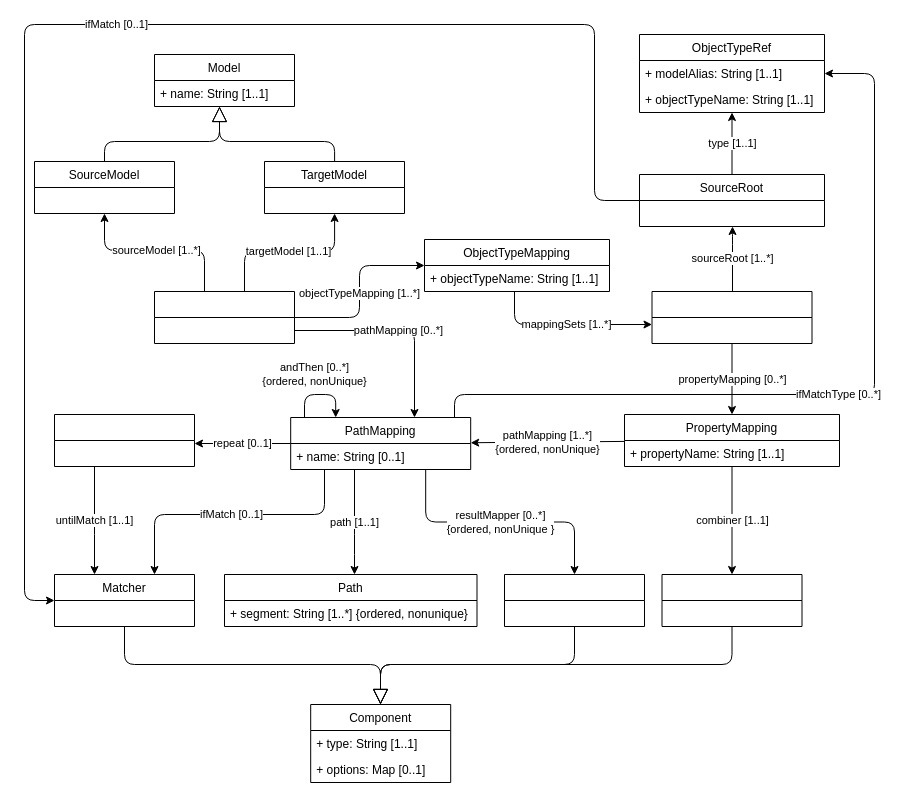
This 900x803 diagram has some shape labels left out. The shapes that lost their labels are listed below. From the top down, each one's centre as x and y in pixels, then its label:
At (224,317): "ModelMapping".
At (731,317): "ObjectTypeMappingSet".
At (124,440): "PathRepeat".
At (574,600): "ResultMapper".
At (731,600): "ResultCombiner".
